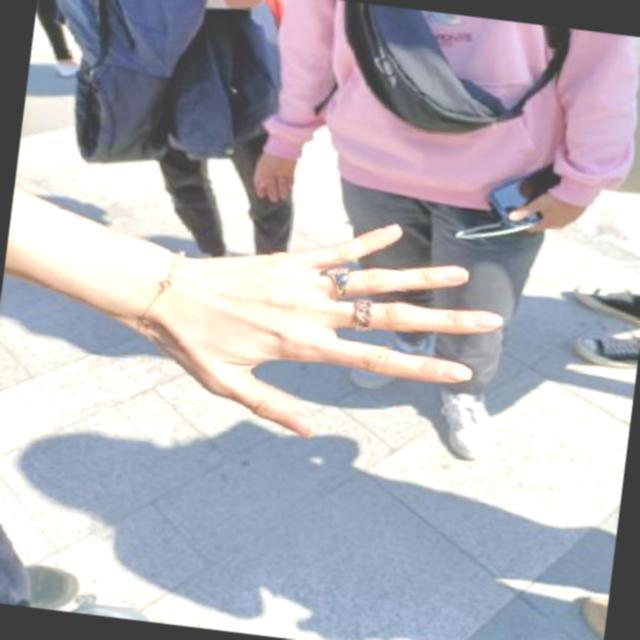hand: (119, 185, 521, 469)
